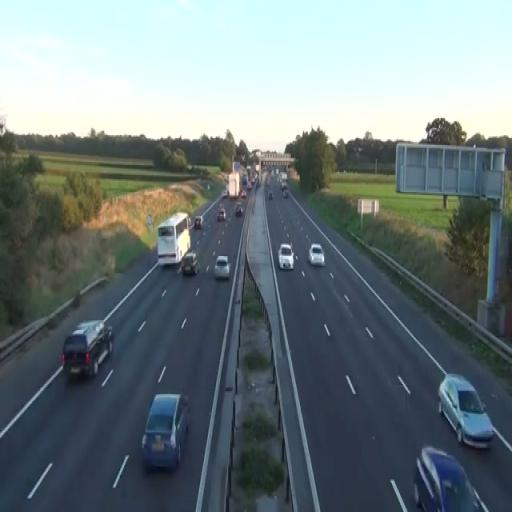Car: (414, 445, 482, 512), (437, 372, 495, 450), (141, 392, 190, 474), (180, 250, 200, 276), (278, 242, 294, 271), (308, 244, 326, 267), (214, 256, 230, 280), (217, 205, 226, 222), (194, 216, 204, 230)
Truck: (61, 319, 115, 381), (156, 212, 191, 266)
